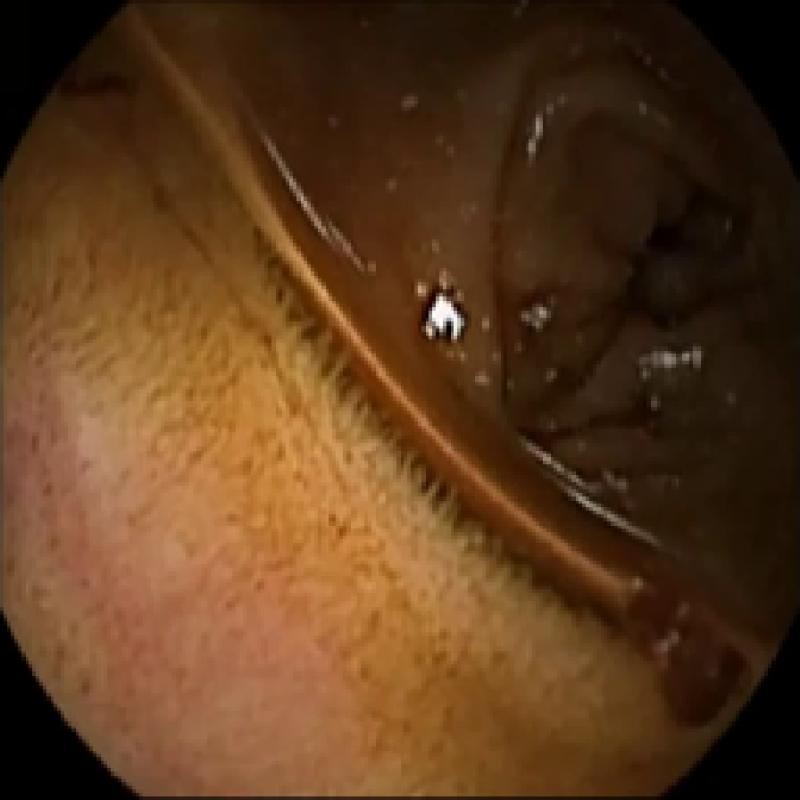bleeding: (625, 575, 757, 725)
